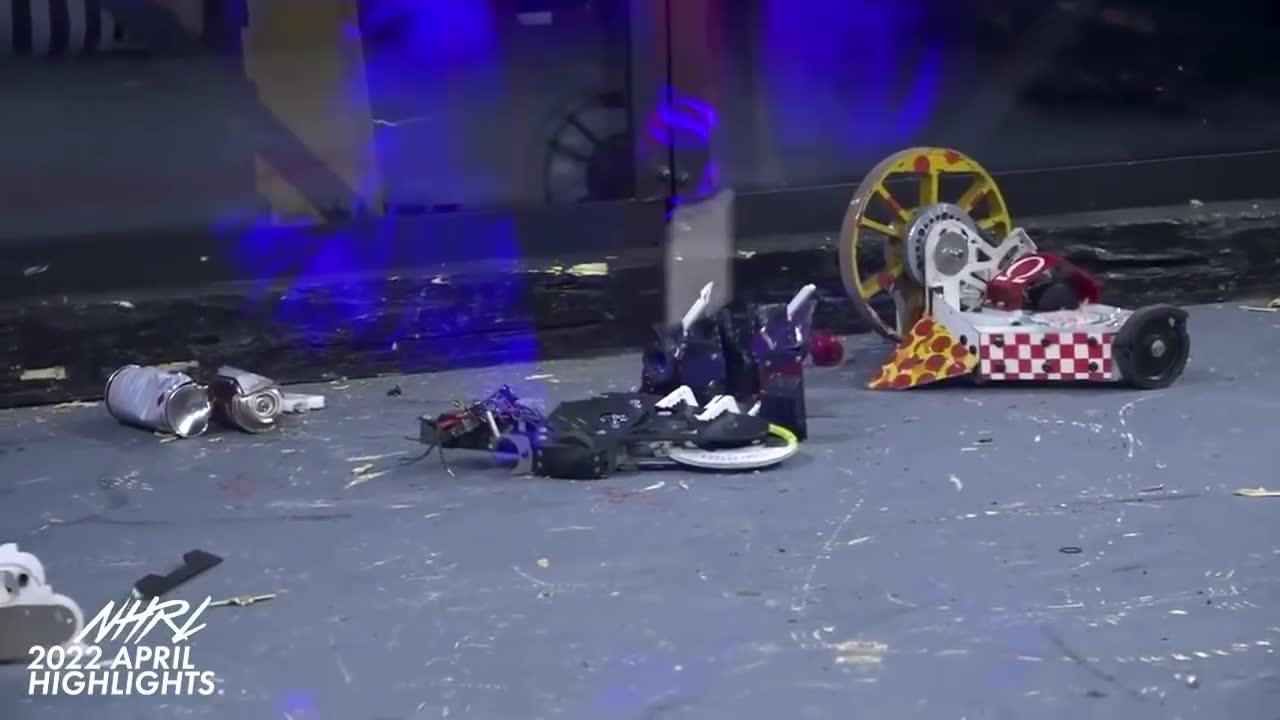combatbot: (838, 146, 1190, 396), (633, 300, 820, 447), (532, 388, 794, 480), (0, 535, 76, 671), (418, 388, 536, 451)
debris: (207, 366, 328, 436), (105, 363, 212, 439), (136, 550, 219, 603)
